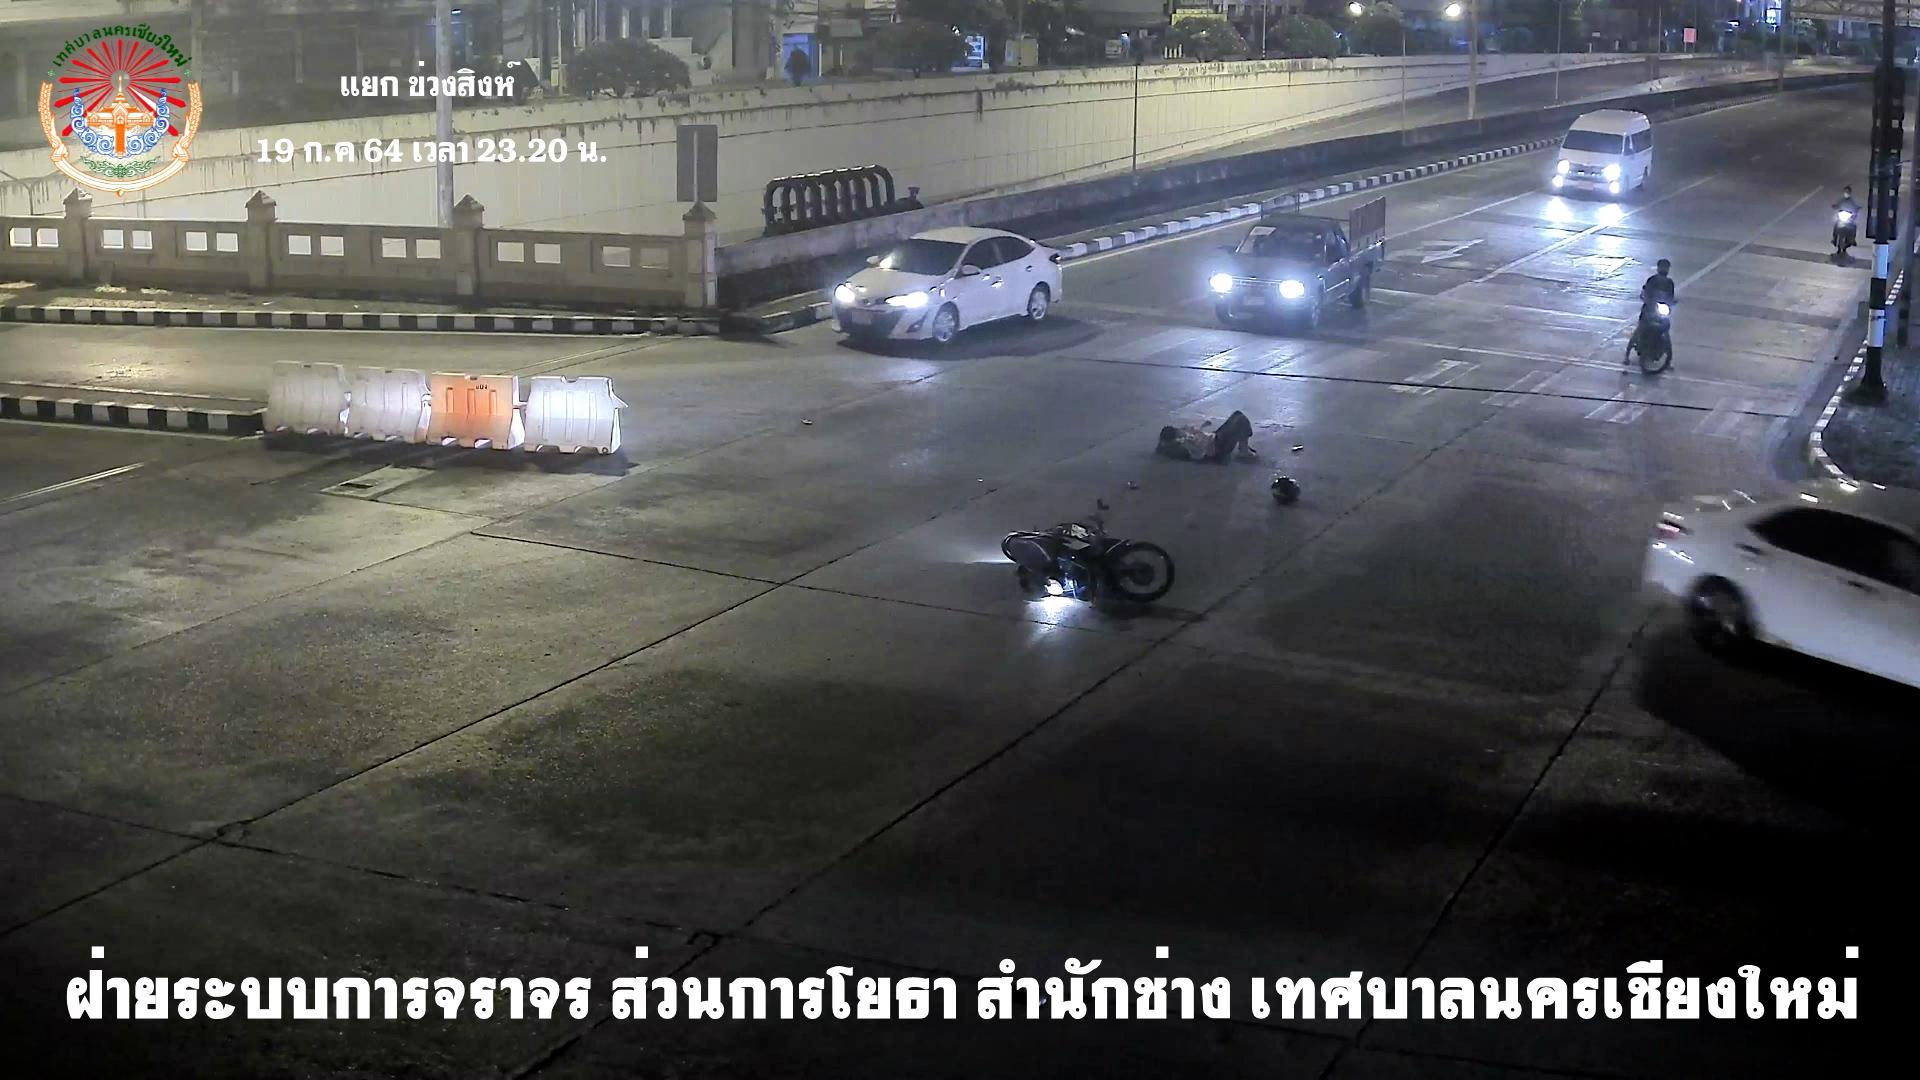accident: (1154, 402, 1262, 479)
